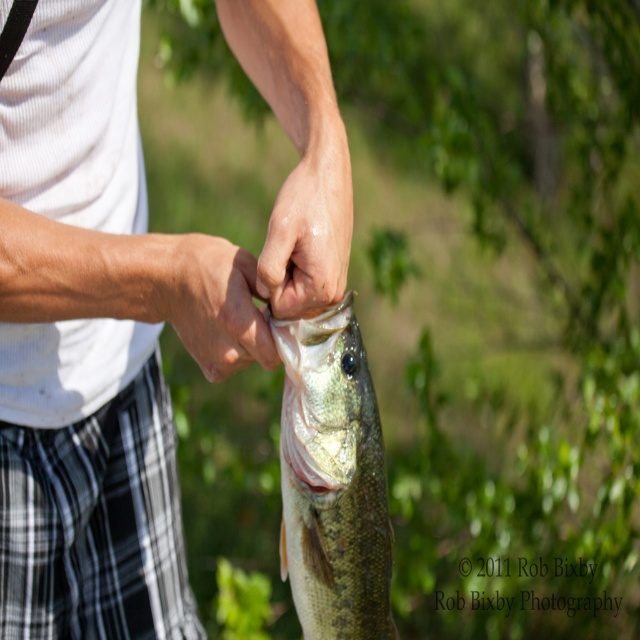Fish: (266, 289, 390, 639)
